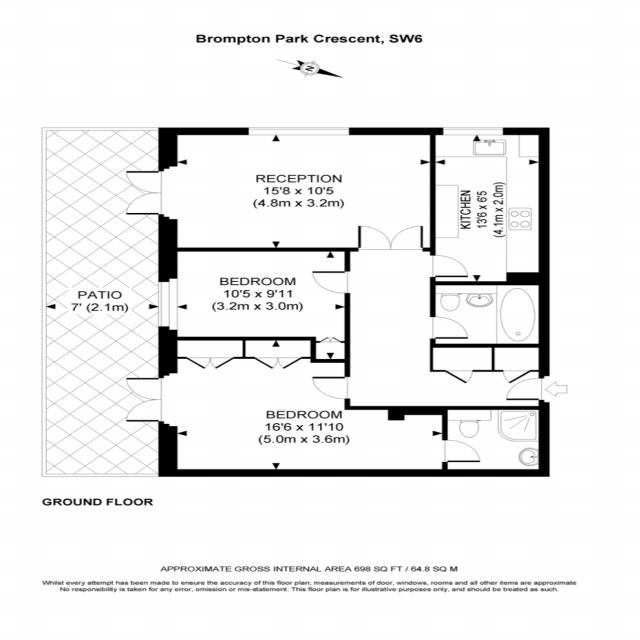DOOR: (505, 375, 550, 404), (442, 439, 482, 463), (311, 376, 350, 400), (311, 270, 350, 294), (430, 254, 469, 278), (429, 316, 469, 339)
DOUBLE DOOR: (357, 222, 424, 253), (123, 375, 163, 424), (124, 170, 164, 216)
ROOM: (125, 337, 482, 477), (124, 127, 436, 252), (158, 247, 351, 363), (429, 127, 550, 285)
WINDOW: (158, 278, 178, 330), (247, 127, 350, 136), (443, 127, 503, 136)
